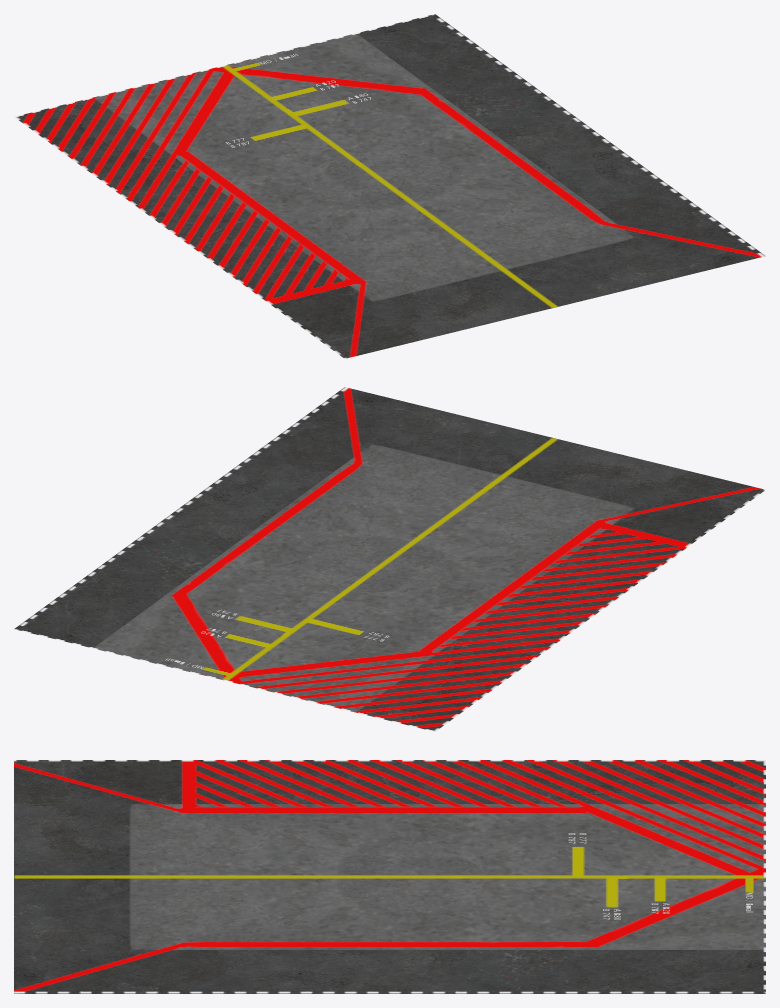
File: Rampa.fbx
The picture shows the model from 3 angles, top to bottom: view 1: azimuth 30°, elevation 25°; view 2: azimuth 150°, elevation 25°; view 3: azimuth 270°, elevation 25°; orthographic projection. The views are drawn at different scales.
Visible parts, largest first — view 1: pPlane46; view 2: pPlane46; view 3: pPlane46.
Part boxes in pixels (<box>): pPlane46: <box>14,14,765,358</box>; pPlane46: <box>14,387,765,731</box>; pPlane46: <box>14,760,765,993</box>.
Bounding box in the file's own units: 6780 × 3.77 × 9221.
